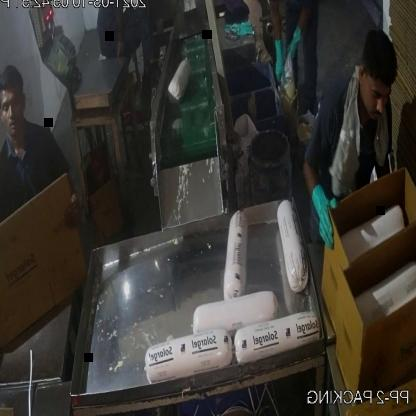glove: (306, 169, 345, 276), (269, 27, 286, 89)
